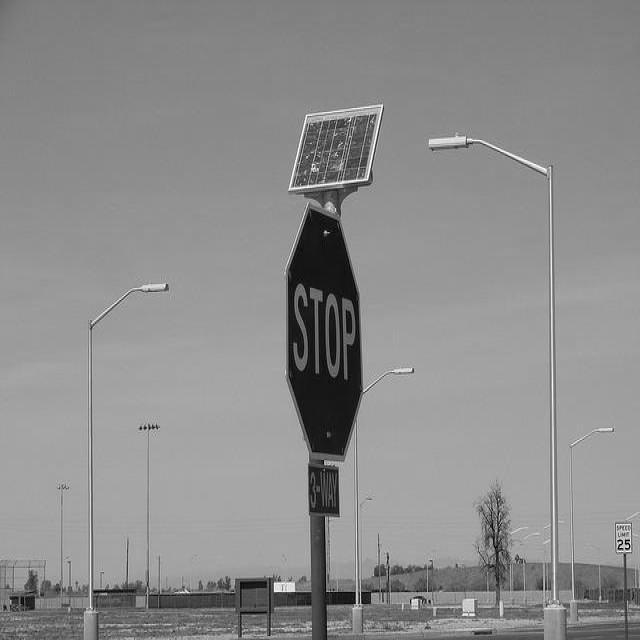vehicle: (410, 595, 434, 606)
